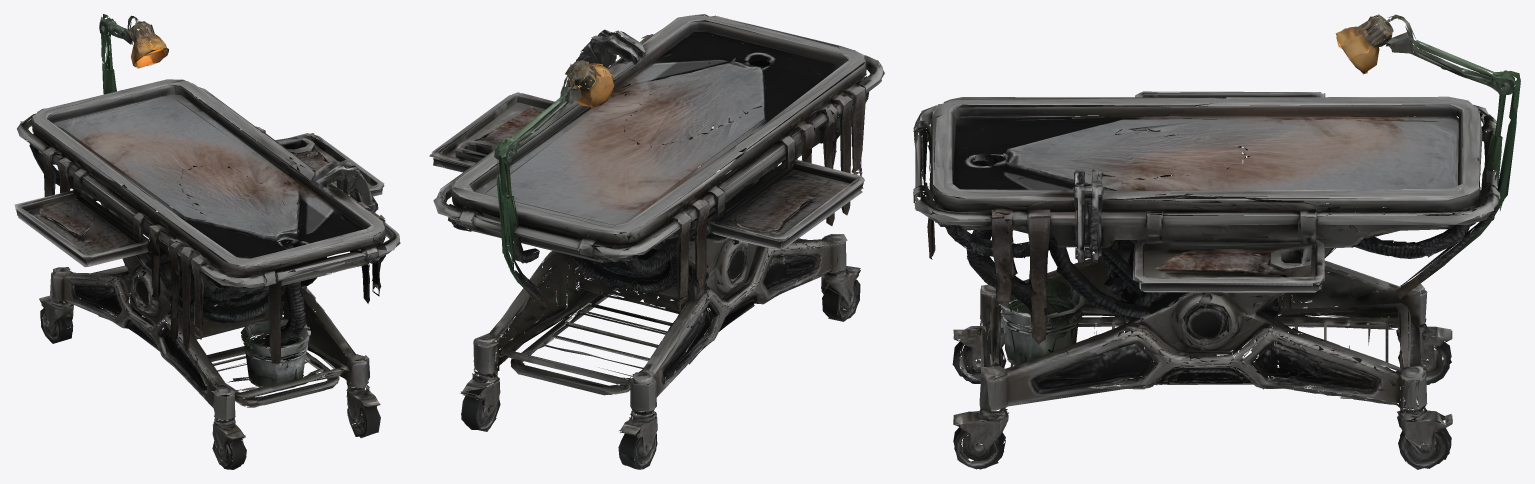
Rendered from corp_dissection_gurney.glb.
3 renders of one model, left to right at view 1: azimuth 30°, elevation 25°; view 2: azimuth 150°, elevation 25°; view 3: azimuth 270°, elevation 25°, orthographic. The views are drawn at different scales.
Visible parts, largest first — view 1: node_0; view 2: node_0; view 3: node_0.
Boxes of the visible parts, left/top/right/bottom form: node_0: left=14, top=14, right=400, bottom=469; node_0: left=429, top=14, right=884, bottom=469; node_0: left=913, top=14, right=1520, bottom=469.
Bounding box in the file's own units: 0.7684 × 0.7697 × 1.04.
1 material, 1 textured.
